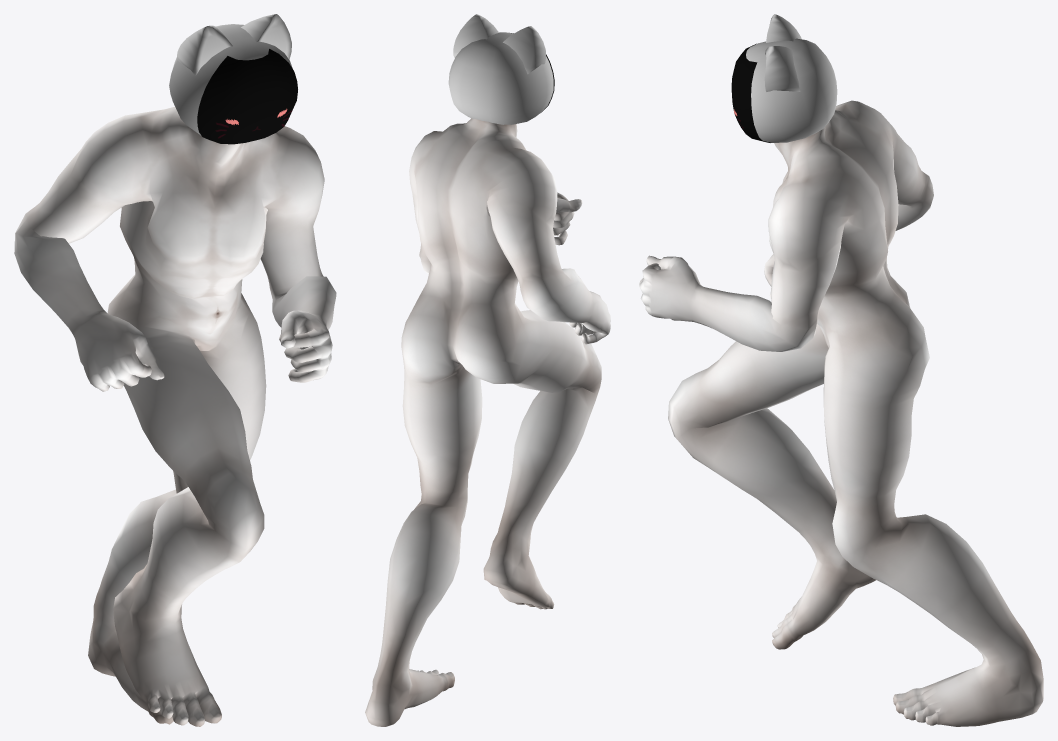
3 renders of one model, left to right at view 1: azimuth 30°, elevation 25°; view 2: azimuth 150°, elevation 25°; view 3: azimuth 270°, elevation 25°, orthographic. The views are drawn at different scales.
Visible parts, largest first — view 1: Muscle_Body, ______?001, Cat_Head; view 2: Muscle_Body, Cat_Head; view 3: Muscle_Body, Cat_Head, ______?001.
Boxes of the visible parts, x1,y1,x2,y2 form: Muscle_Body: (14,106,336,726); ______?001: (197,49,297,144); Cat_Head: (169,14,292,135); Muscle_Body: (365,118,610,726); Cat_Head: (448,14,553,124); Muscle_Body: (639,100,1043,726); Cat_Head: (746,14,837,142); ______?001: (731,43,770,142).
Bounding box in the file's own units: 9.32 × 27.15 × 14.61.
